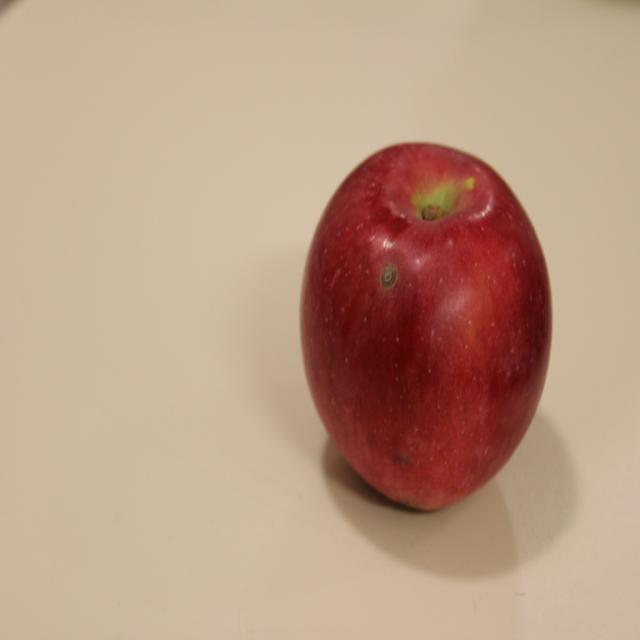Healty Apple: (299, 140, 553, 514)
